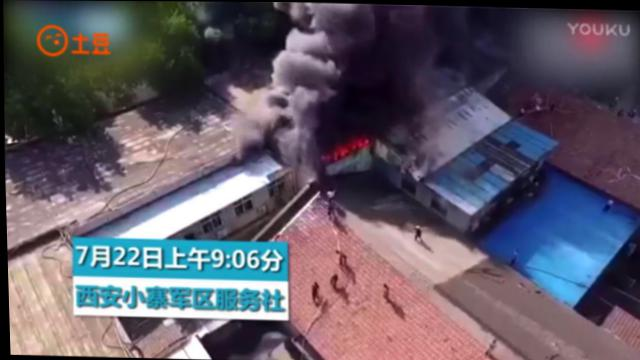smoke: (269, 28, 334, 170), (405, 51, 449, 168), (286, 3, 419, 32), (229, 100, 273, 160)
